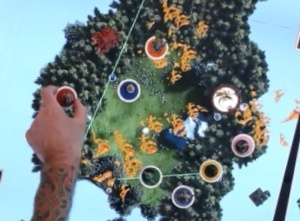blue: (113, 73, 144, 105)
green: (136, 158, 168, 191), (196, 153, 228, 185)
orange: (142, 31, 171, 62)
pink: (228, 127, 262, 161)
red: (50, 80, 80, 112)
violet: (171, 180, 200, 209)
